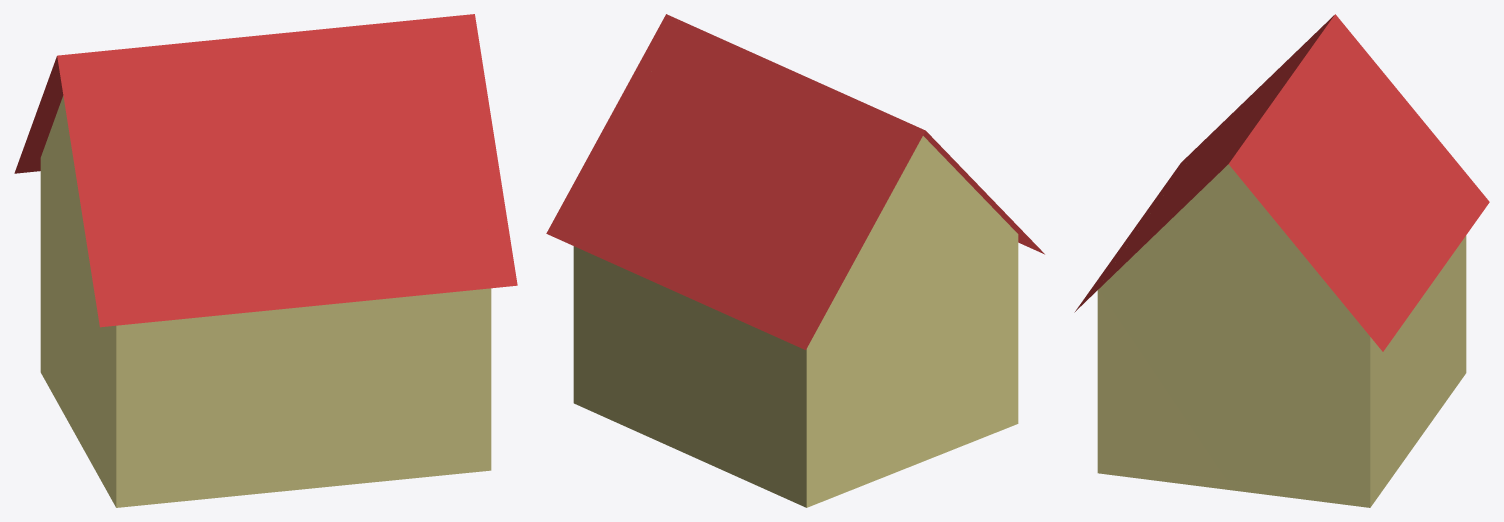
3 views of the same model, side by side, from view 1: azimuth 30°, elevation 25°; view 2: azimuth 150°, elevation 25°; view 3: azimuth 270°, elevation 25° (orthographic). The views are drawn at different scales.
Visible parts, largest first — view 1: group_3, group_5, group_4; view 2: group_5, group_3, group_4; view 3: group_5, group_3, group_4.
Boxes of the visible parts, bbox=[...] form: group_3: bbox=[14, 14, 491, 325]; group_5: bbox=[40, 96, 491, 507]; group_4: bbox=[48, 15, 517, 327]; group_5: bbox=[573, 136, 1018, 507]; group_3: bbox=[546, 15, 1044, 349]; group_4: bbox=[548, 14, 924, 349]; group_5: bbox=[1097, 164, 1466, 507]; group_3: bbox=[1098, 14, 1465, 351]; group_4: bbox=[1074, 15, 1489, 350].
Bounding box in the file's own units: 17.72 × 16.44 × 14.58.
